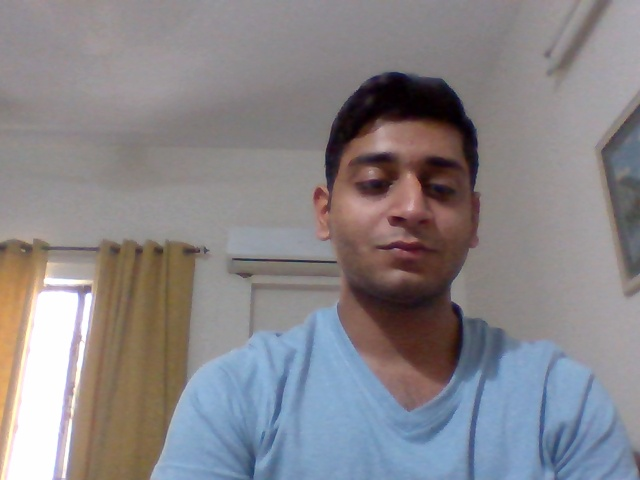neutral: (350, 115, 462, 300)
